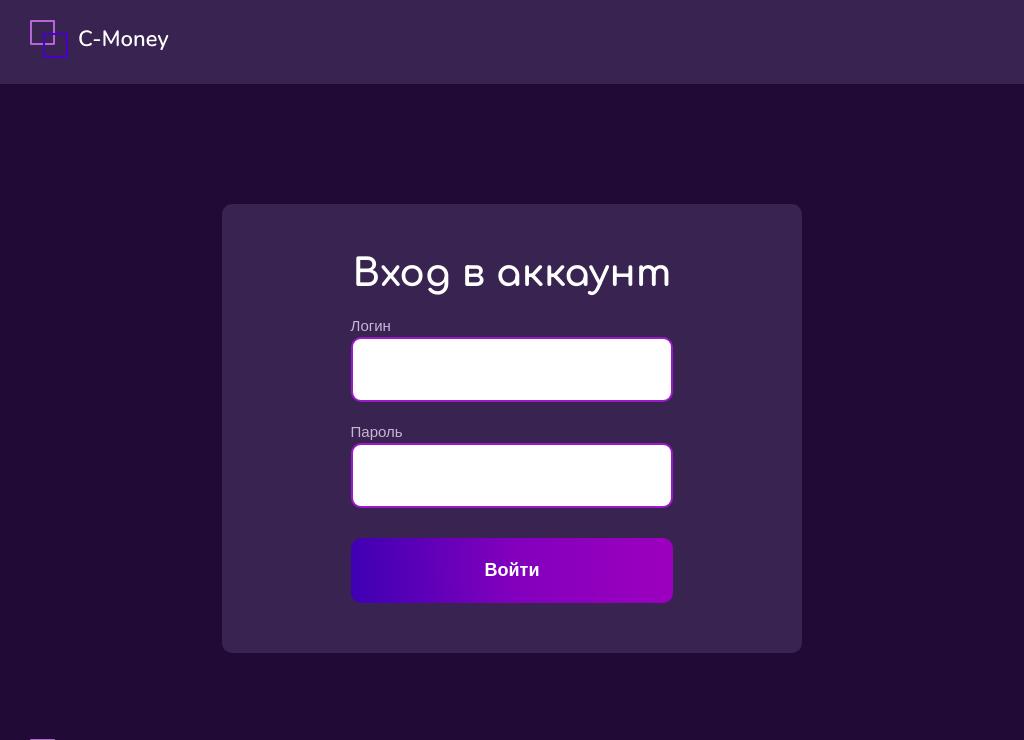
Test: C-Money › Авторизация, не валидный логин - пустое поле
Type "methed" into the password field named "password". click: (513, 476)
box: [351,443,674,508]
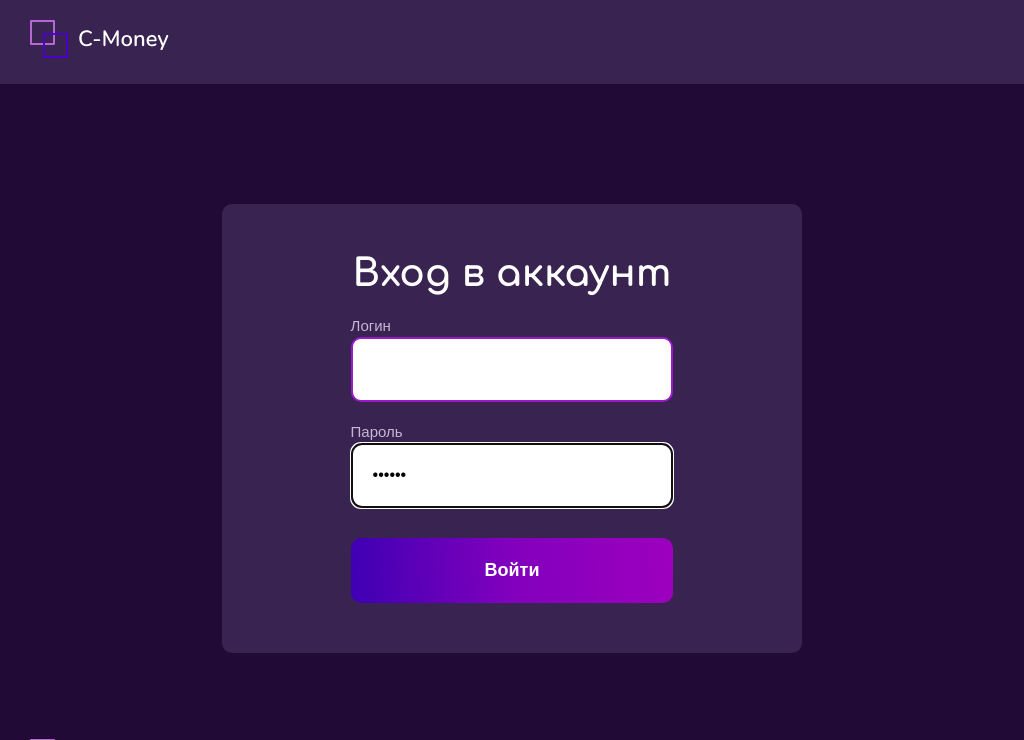
Click the button "Войти". click: (513, 571)
box: [351,538,674,603]
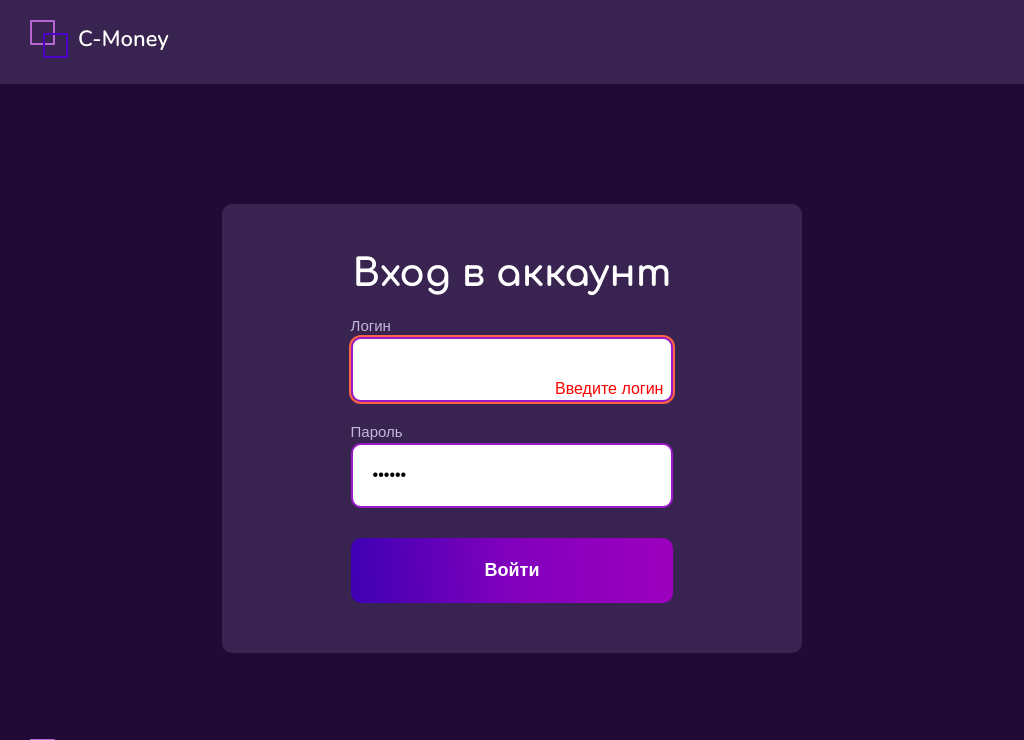
Result: the text "Введите логин" is shown at [555,379,663,400]
